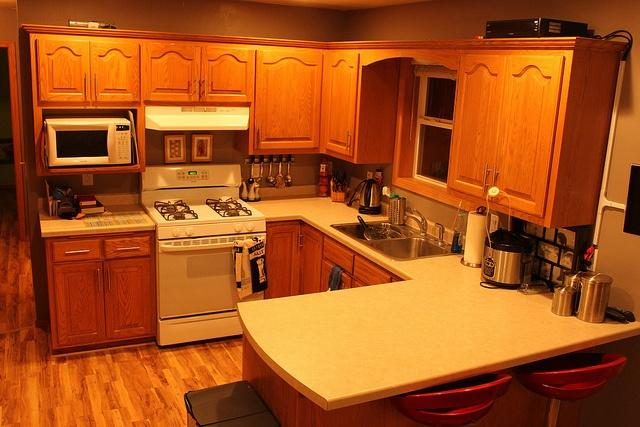Lemari: (445, 36, 628, 229), (247, 33, 401, 163)
